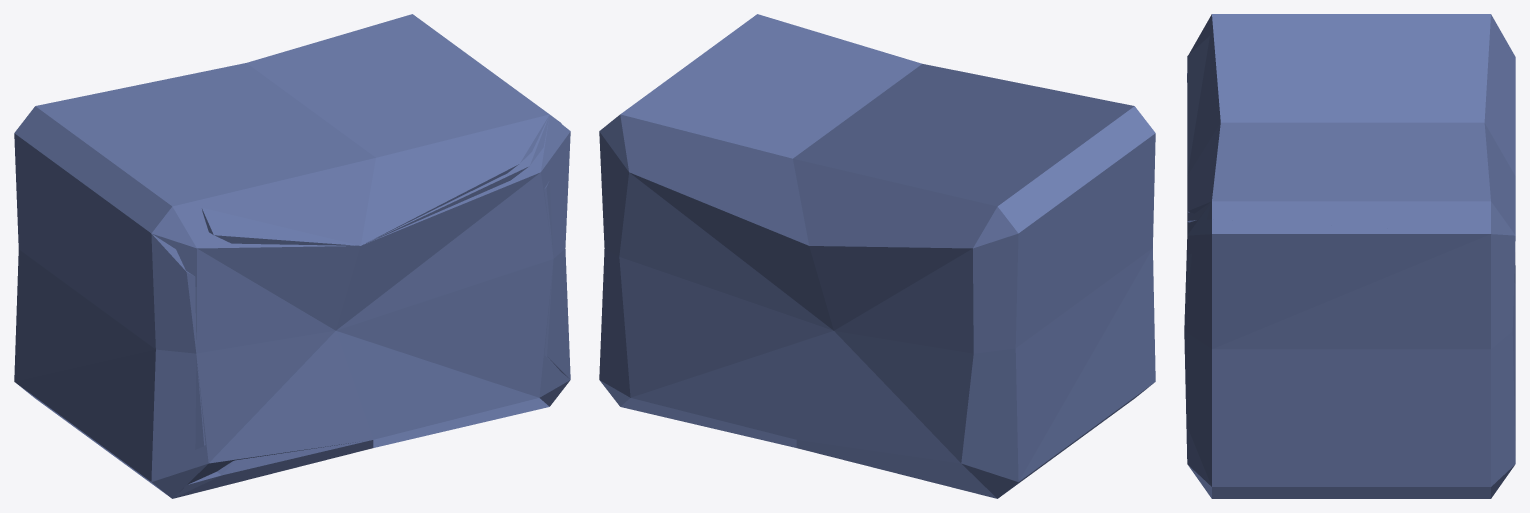
File: fragmented_blockR.glb
3 views of the same model, side by side, from view 1: azimuth 30°, elevation 25°; view 2: azimuth 150°, elevation 25°; view 3: azimuth 270°, elevation 25° (orthographic).
Parts seen in each view (by area): view 1: blockR-hit1-Visual, blockR-ColVis.002, blockR-ColVis.006, blockR-ColVis.001, blockR-hit2-Visual, blockR-ColVis.005; view 2: blockR-hit1-Visual, blockR-ColVis.002; view 3: blockR-hit1-Visual, blockR-ColVis.006, blockR-hit2-Visual, blockR-ColVis.005.
Part boxes in pixels (<box>): blockR-hit1-Visual: <box>14,14,570,498</box>; blockR-ColVis.002: <box>14,331,335,481</box>; blockR-ColVis.006: <box>336,132,570,330</box>; blockR-ColVis.001: <box>31,331,372,498</box>; blockR-hit2-Visual: <box>151,115,570,379</box>; blockR-ColVis.005: <box>336,115,570,330</box>; blockR-hit1-Visual: <box>599,14,1155,498</box>; blockR-ColVis.002: <box>1019,248,1155,481</box>; blockR-hit1-Visual: <box>1184,14,1515,498</box>; blockR-ColVis.006: <box>1184,234,1490,349</box>; blockR-hit2-Visual: <box>1184,36,1211,486</box>; blockR-ColVis.005: <box>1187,202,1485,235</box>.
Size of the model in its own units: 3 by 2 by 2.02.
